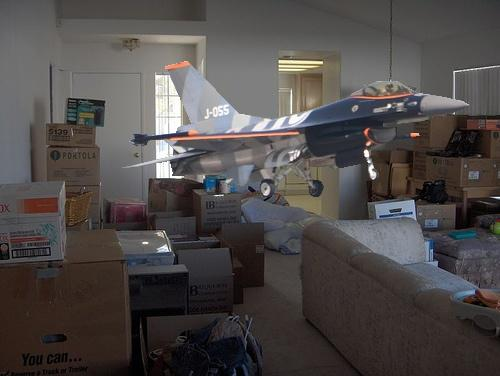tampered: (123, 62, 470, 197)
